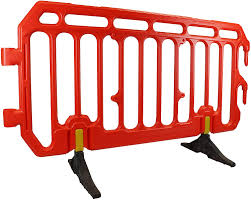barrier: (5, 2, 246, 197)
